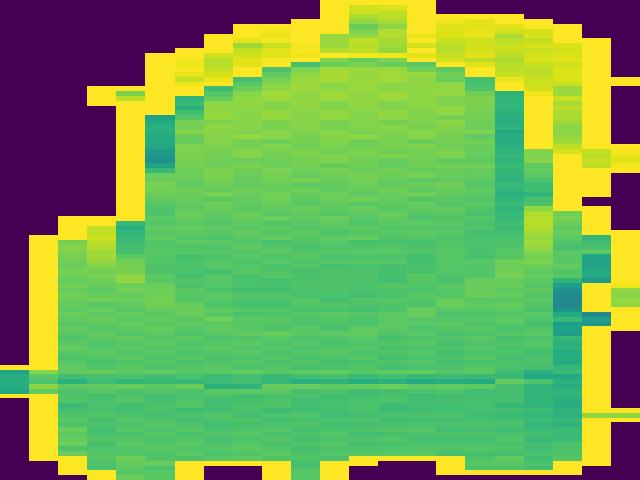car_0027: (4, 3, 640, 480)
